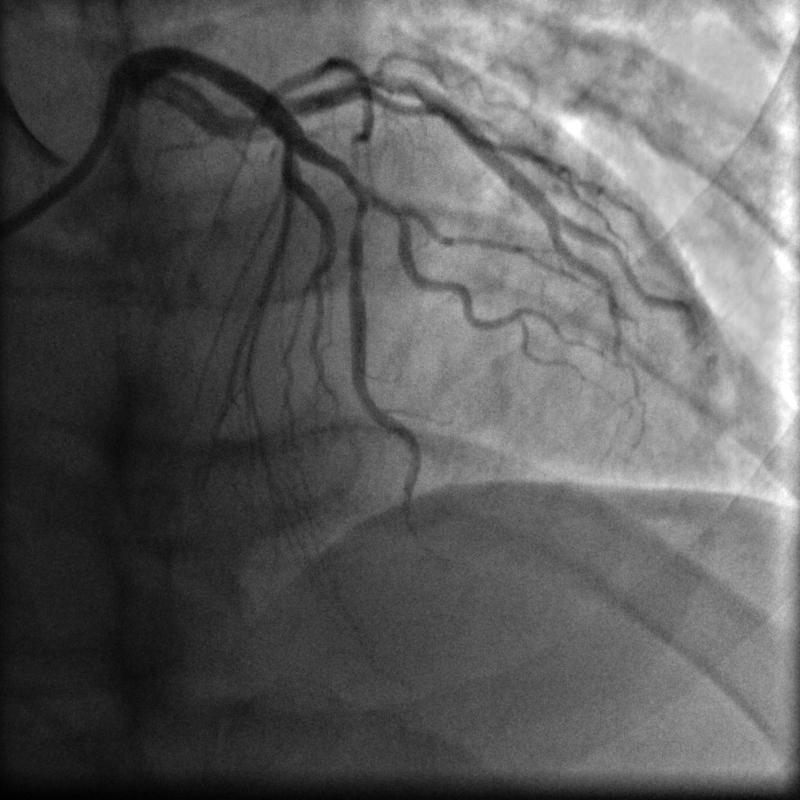Stenosis: (350, 183, 370, 243)
